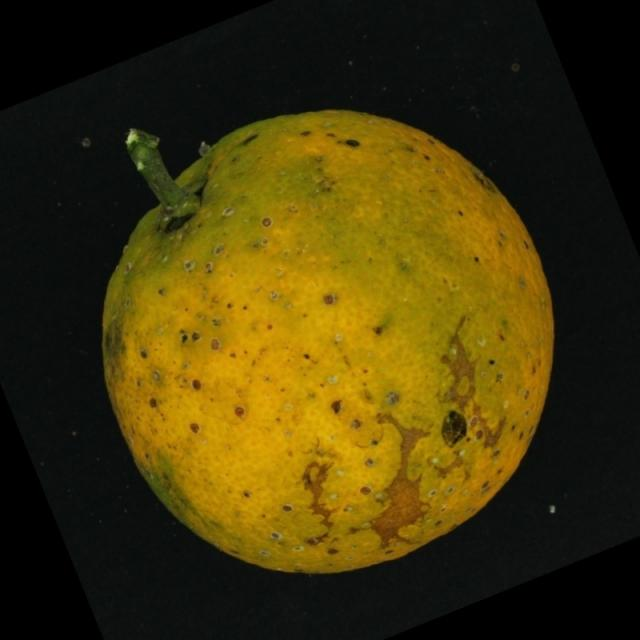grenning: (58, 80, 569, 595)
